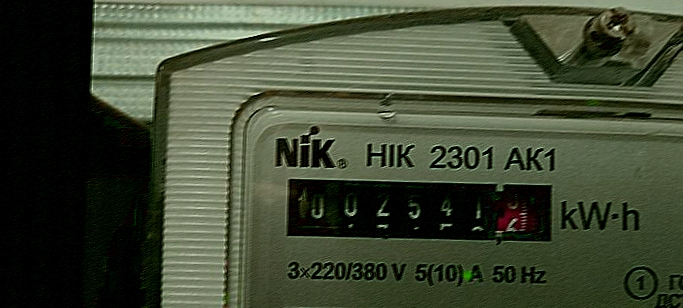0: (341, 187, 361, 221), (310, 192, 328, 222)
1: (469, 189, 486, 223)
2: (372, 187, 394, 222)
4: (438, 189, 456, 221)
5: (406, 191, 423, 223)
6: (503, 215, 520, 236)
screen: (271, 162, 575, 263)
